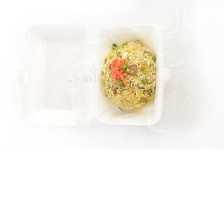foam_box: (19, 14, 175, 134)
